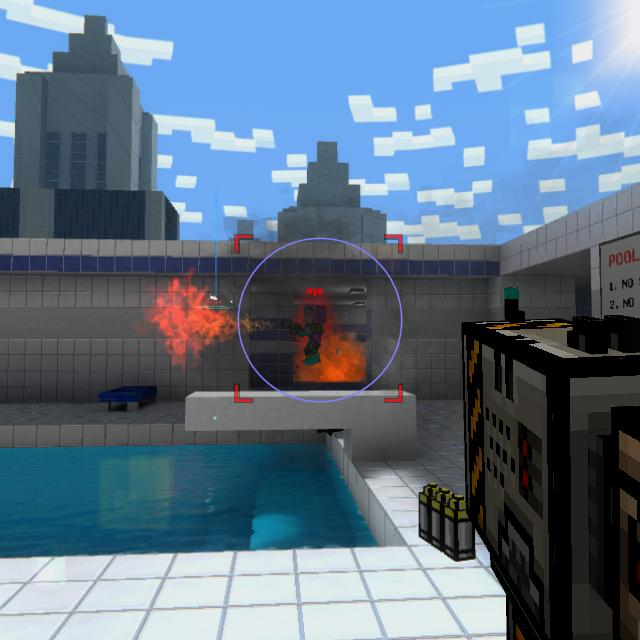Enemy: (298, 304, 327, 366)
